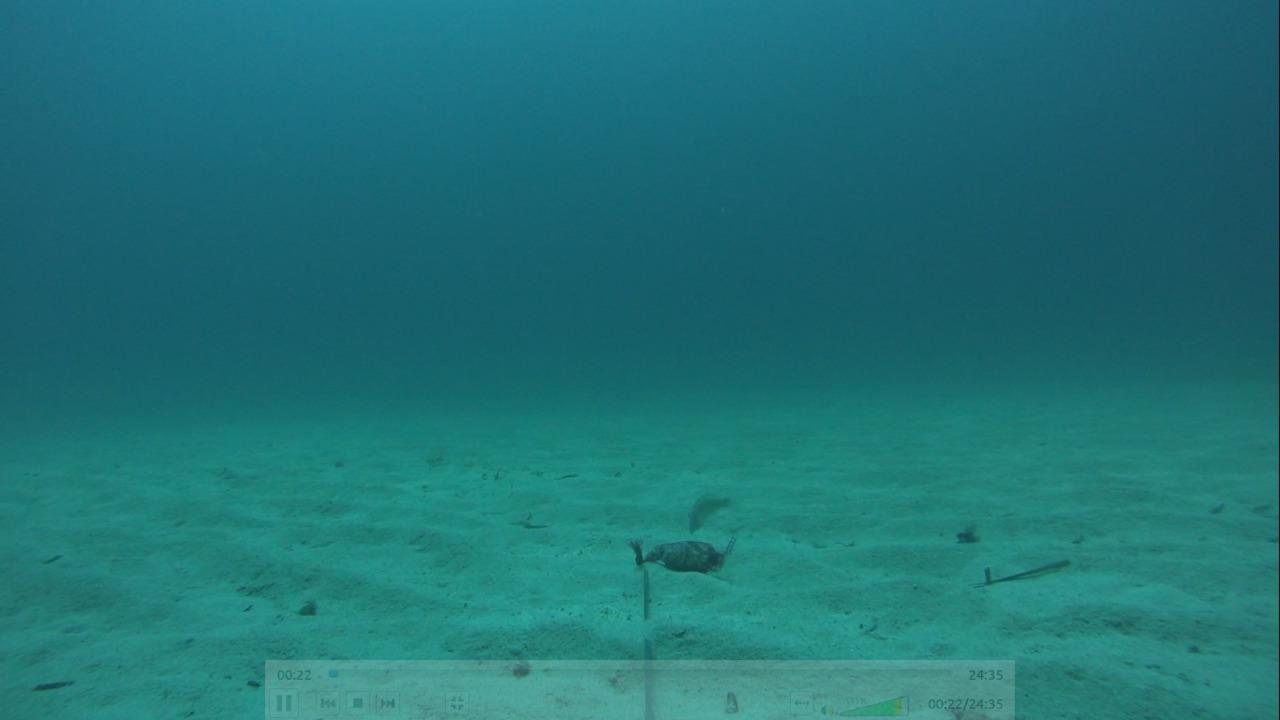raor: (680, 488, 736, 537)
